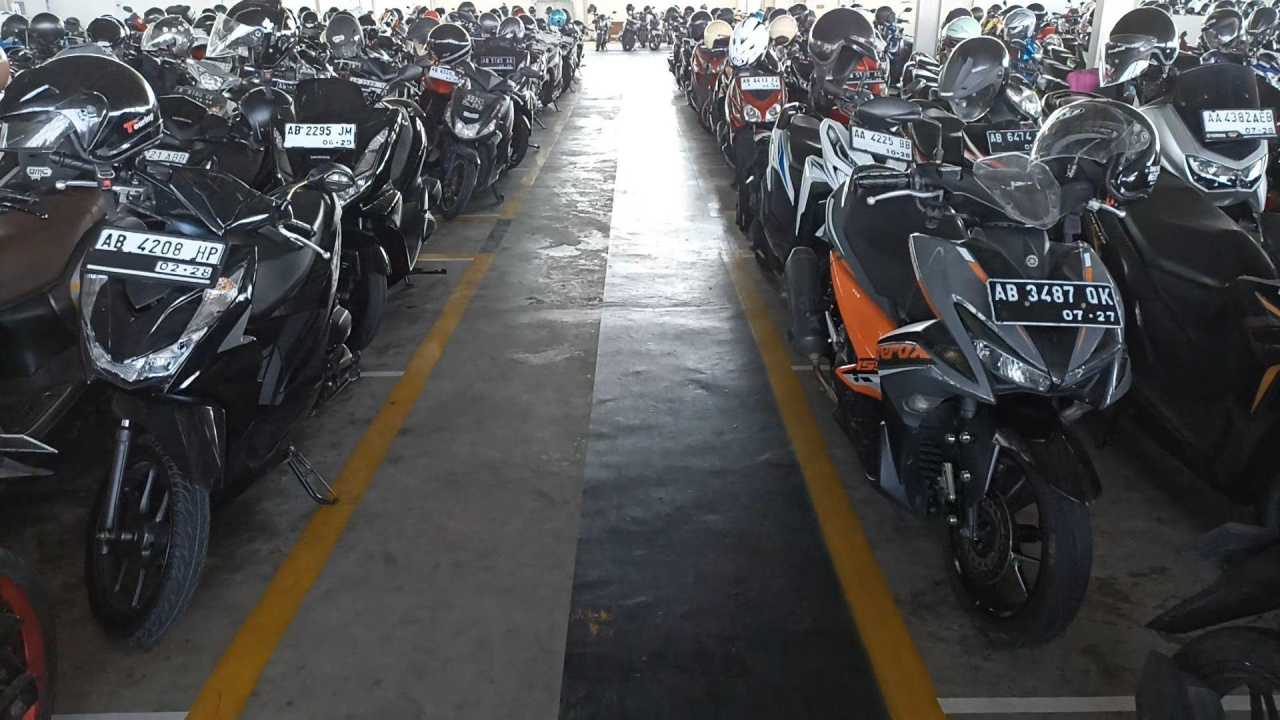plate: (85, 225, 228, 286), (987, 280, 1124, 328), (1201, 108, 1278, 141), (850, 126, 913, 162), (283, 123, 356, 148), (741, 75, 781, 91)
